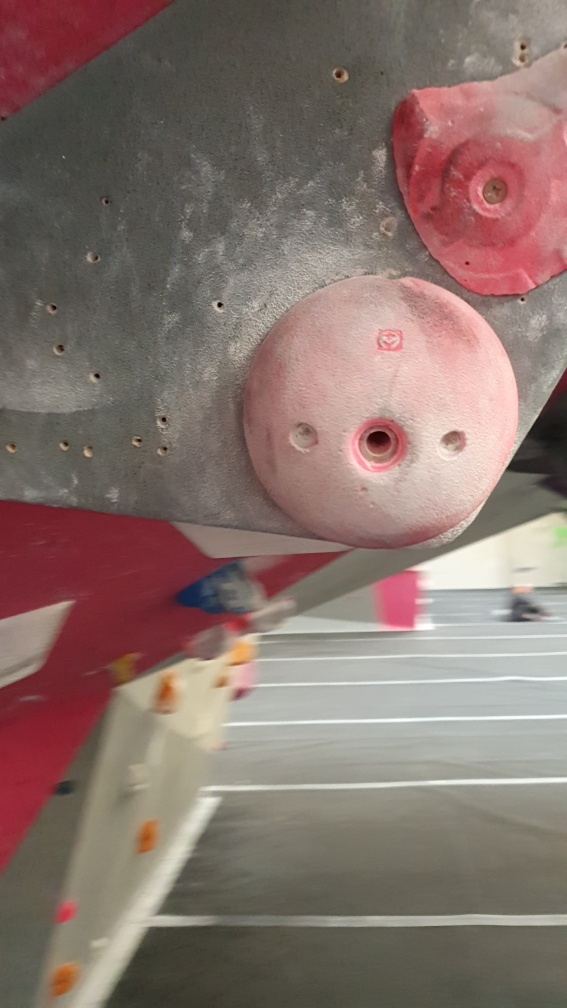Sloper: (238, 272, 522, 556)
